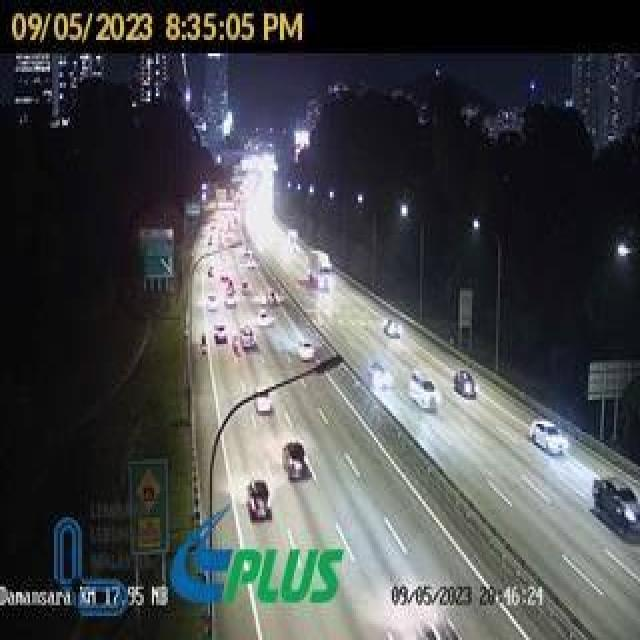Car: (529, 366, 570, 484), (594, 455, 638, 557), (403, 361, 443, 435), (376, 286, 412, 349), (279, 426, 307, 498), (359, 356, 396, 408), (249, 469, 270, 547), (252, 358, 273, 433), (458, 344, 483, 406), (299, 315, 320, 375), (212, 320, 230, 359), (241, 314, 256, 351), (256, 299, 272, 331), (226, 282, 240, 311), (204, 284, 218, 310)
Truck: (302, 242, 345, 312)
